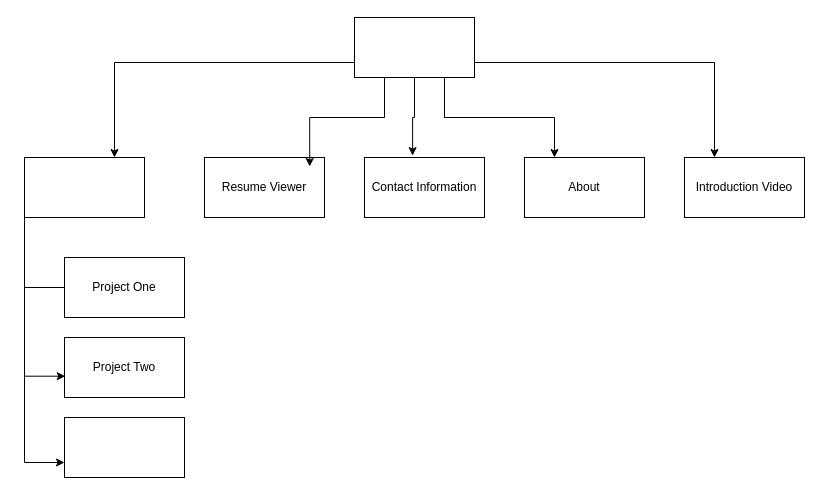
Some shapes in this 822 by 495 pixel diagram are drawn without their labels. The centre of each missing label's shape, as x and y in pixels:
Index / Landing Page: the point at 414,47
Project Table of Contents: the point at 84,187
Project Three: the point at 124,447
